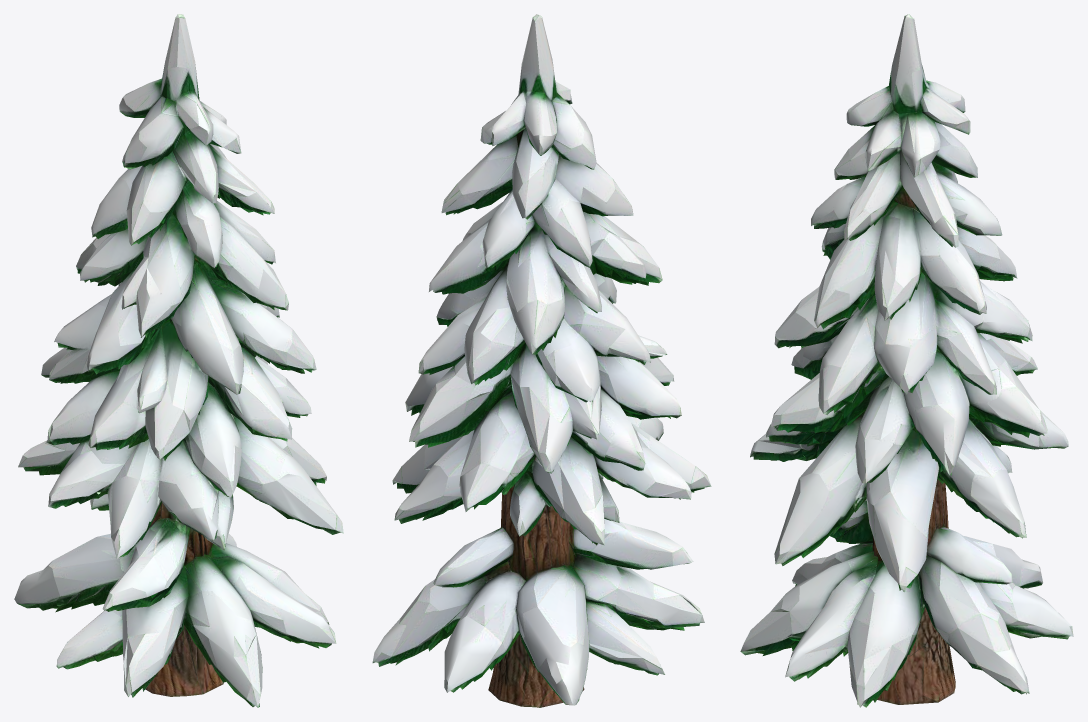
Rendered from pine.glb.
The picture shows the model from 3 angles, left to right: view 1: azimuth 30°, elevation 25°; view 2: azimuth 150°, elevation 25°; view 3: azimuth 270°, elevation 25°; orthographic projection.
Bounding box in the file's own units: 0.8557 × 1.9 × 0.8536.
Materials: 1 (1 with a texture image).
